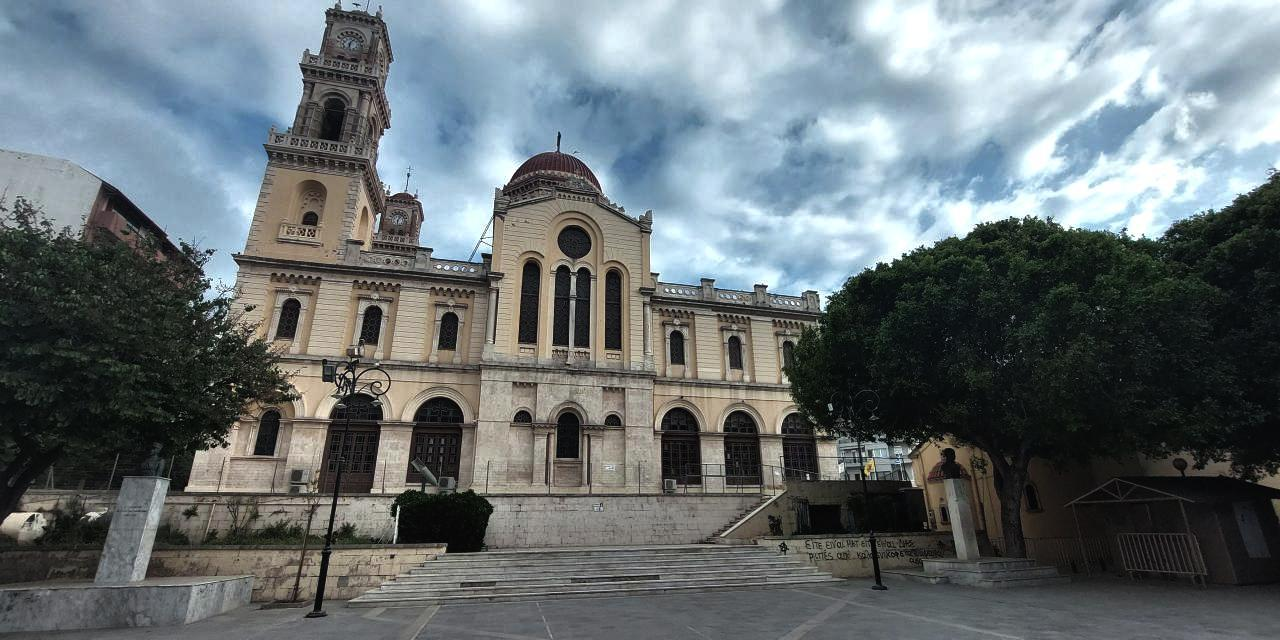Agios Minas: (171, 1, 834, 500)
